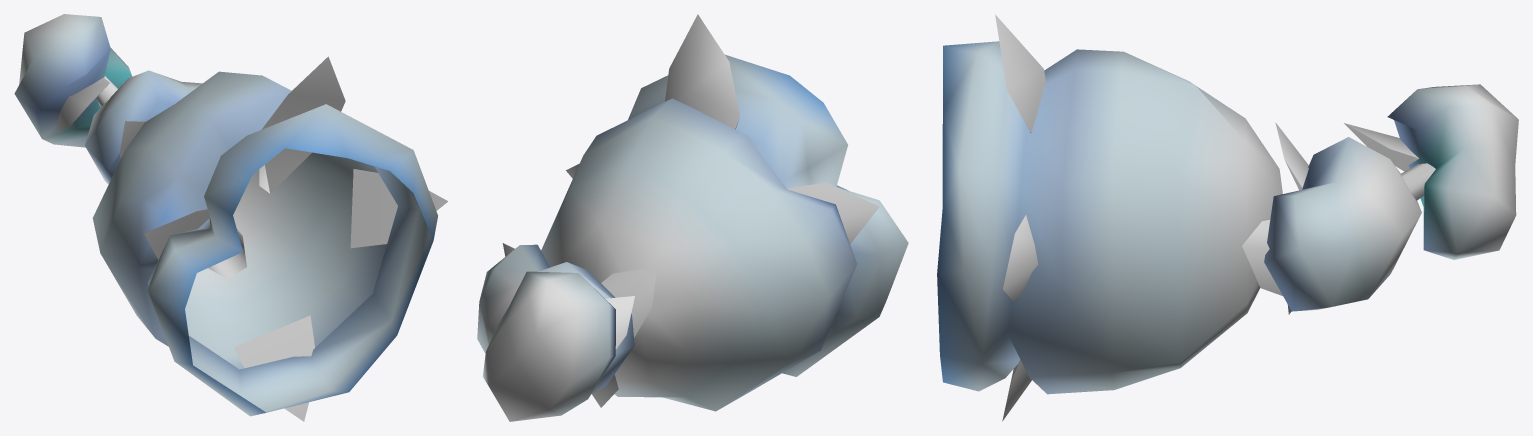
The model's file is SnowTreeLumpy.fbx.
3 renders of one model, left to right at view 1: azimuth 30°, elevation 25°; view 2: azimuth 150°, elevation 25°; view 3: azimuth 270°, elevation 25°, orthographic. The views are drawn at different scales.
Parts seen in each view (by area): view 1: SnowTreeLumpy; view 2: SnowTreeLumpy; view 3: SnowTreeLumpy.
Boxes of the visible parts, x1,y1,x2,y2 form: SnowTreeLumpy: (14,14,447,421); SnowTreeLumpy: (477,14,908,421); SnowTreeLumpy: (937,14,1518,421).
Bounding box in the file's own units: 536 × 590 × 741.
